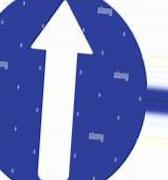forward: (2, 1, 148, 180)
